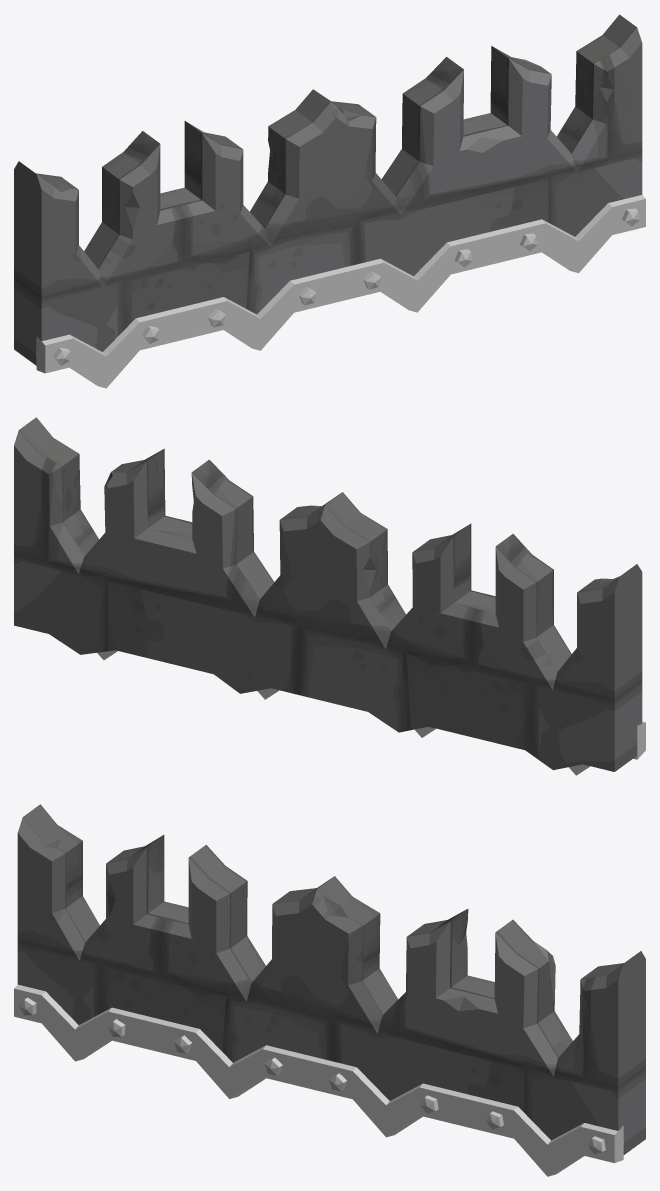
Rendered from SM_Bld_Battlements_02.fbx.
The picture shows the model from 3 angles, top to bottom: view 1: azimuth 30°, elevation 25°; view 2: azimuth 150°, elevation 25°; view 3: azimuth 330°, elevation 25°; orthographic projection.
Visible parts, largest first — view 1: SM_Bld_Battlements_02; view 2: SM_Bld_Battlements_02; view 3: SM_Bld_Battlements_02.
Part boxes in pixels (box(x1,y1,x2,y2)): SM_Bld_Battlements_02: box(14, 14, 645, 388); SM_Bld_Battlements_02: box(14, 417, 645, 775); SM_Bld_Battlements_02: box(14, 804, 645, 1176).
Bounding box in the file's own units: 501 × 181 × 50.96.
